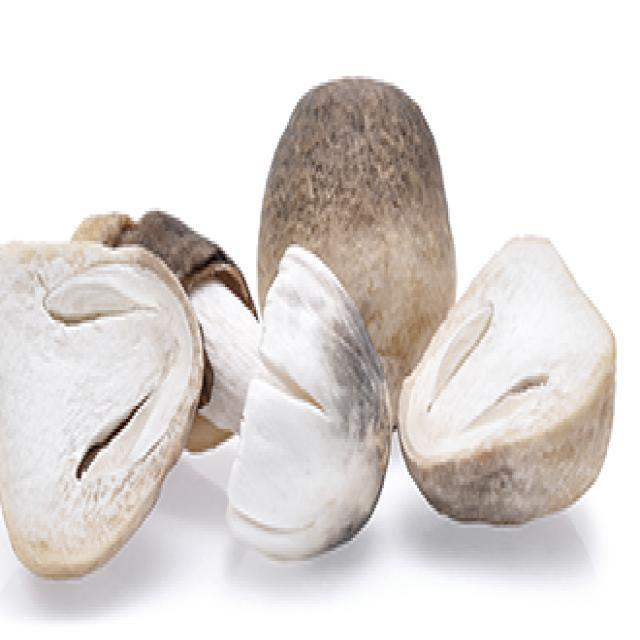Mushroom: (0, 72, 617, 584), (0, 234, 202, 574), (395, 228, 616, 524), (201, 242, 395, 568)
